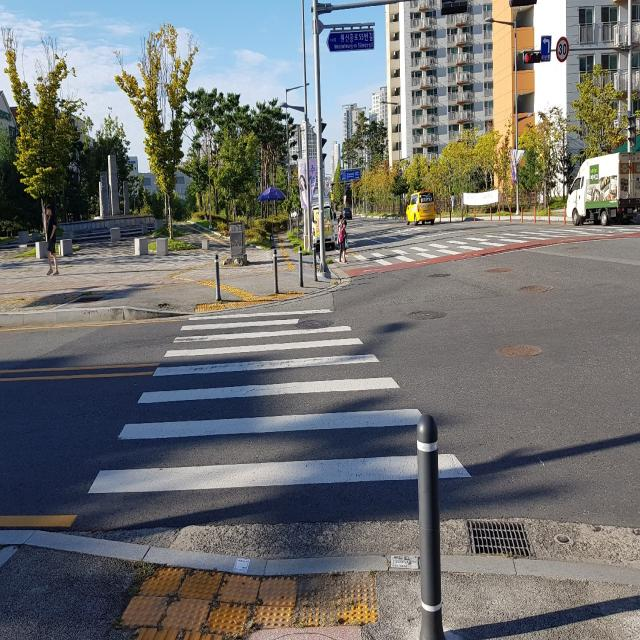횡단보도: (85, 307, 473, 496), (357, 232, 562, 256)
